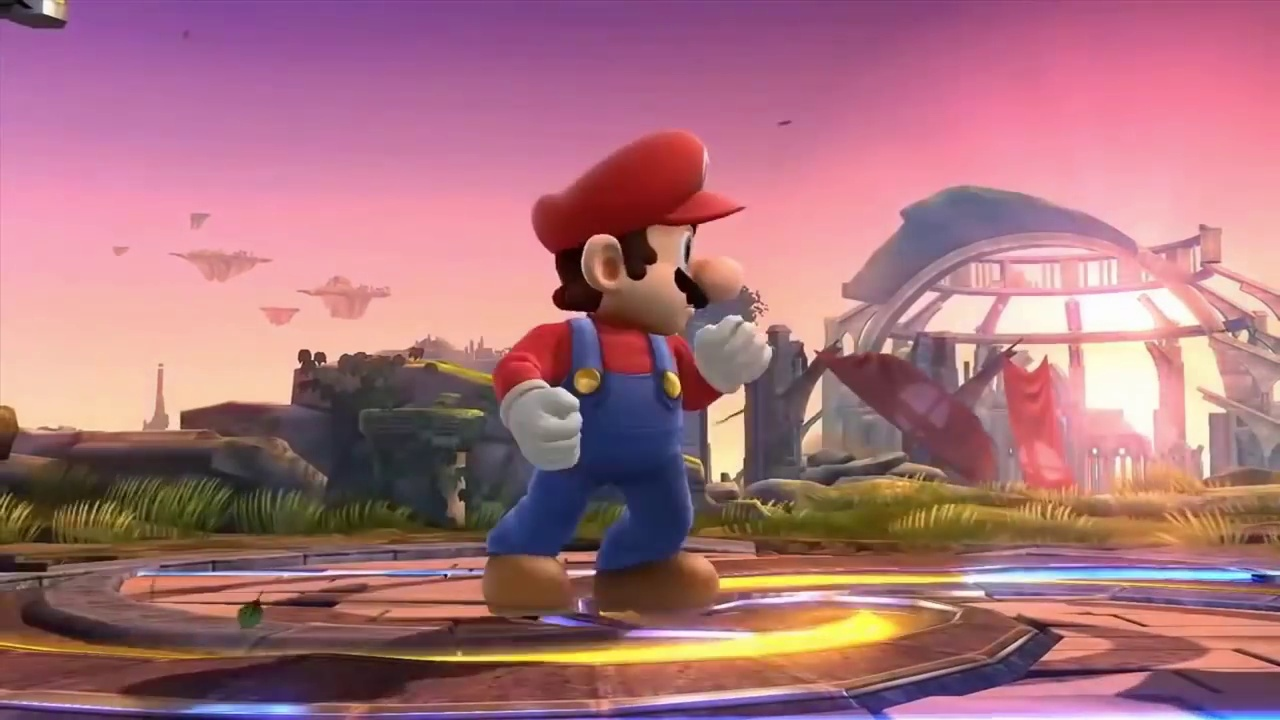Mario: (484, 131, 772, 616)
